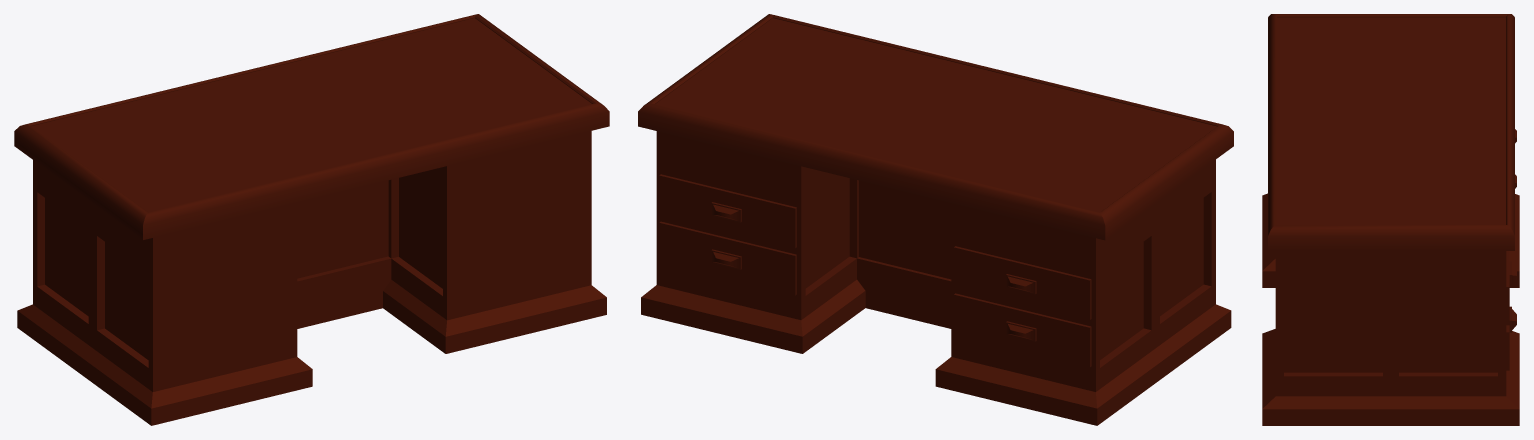
Rendered from mike deskt.fbx.
The picture shows the model from 3 angles, left to right: view 1: azimuth 30°, elevation 25°; view 2: azimuth 150°, elevation 25°; view 3: azimuth 270°, elevation 25°; orthographic projection. The views are drawn at different scales.
Visible parts, largest first — view 1: Mike desktop; view 2: Mike desktop; view 3: Mike desktop.
Part boxes in pixels (x1=…): Mike desktop: x1=14, y1=14, x2=609, y2=425; Mike desktop: x1=638, y1=14, x2=1233, y2=425; Mike desktop: x1=1262, y1=14, x2=1519, y2=425.
Bounding box in the file's own units: 0.0891 × 0.0378 × 0.0443.
